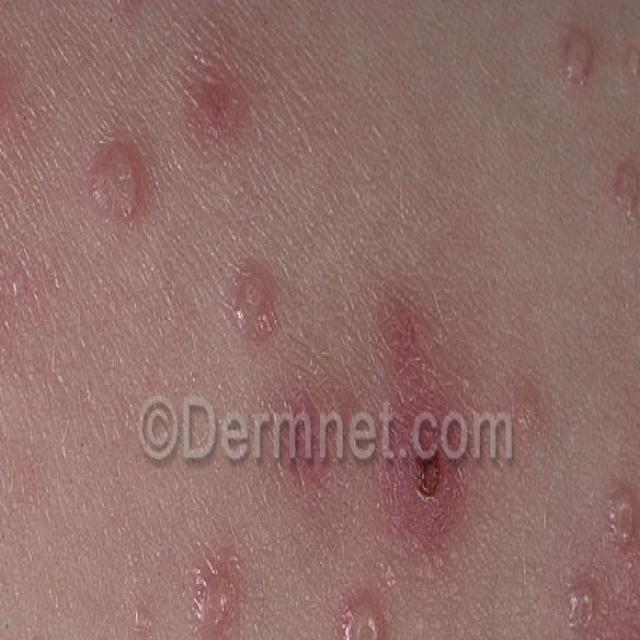Viral Infections: (347, 251, 463, 522), (555, 22, 640, 237), (556, 457, 640, 639), (74, 115, 137, 234), (172, 555, 249, 637), (181, 41, 235, 153), (223, 246, 276, 345), (331, 584, 393, 640), (0, 41, 28, 135), (123, 600, 157, 640)
